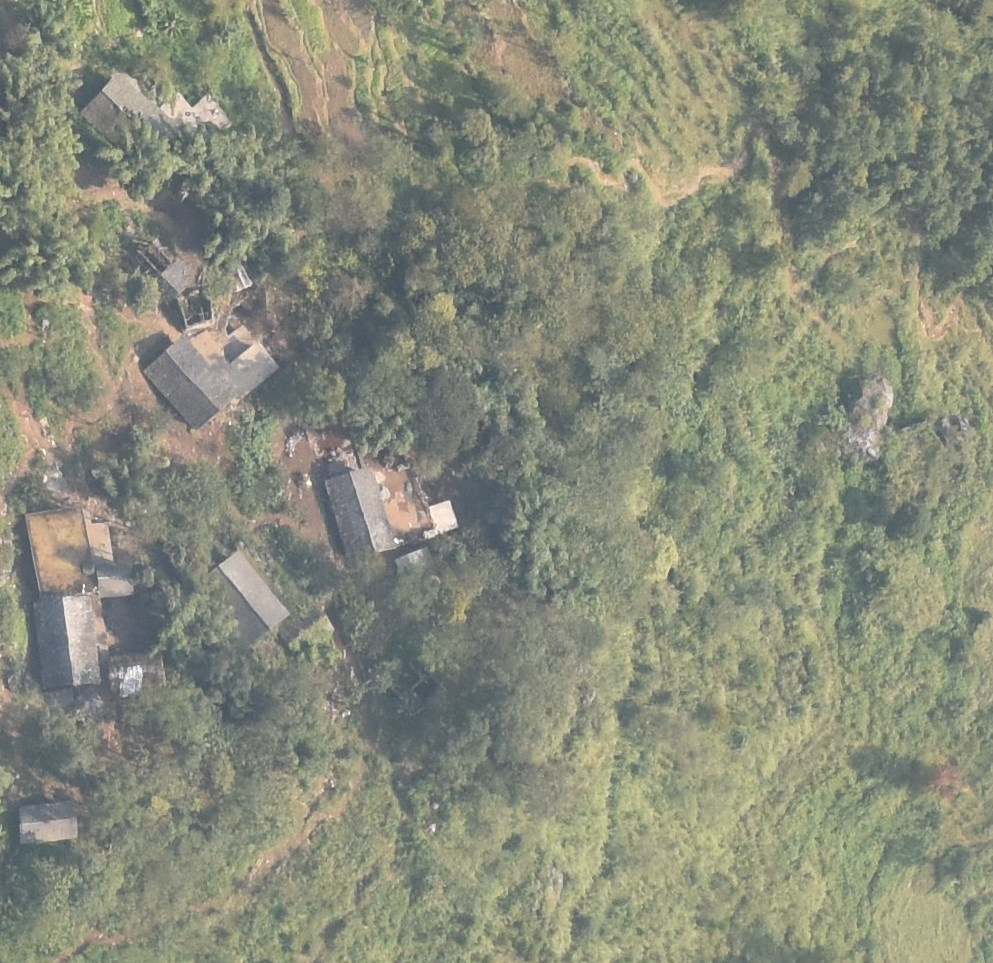building: (144, 337, 238, 431), (205, 552, 296, 646), (24, 507, 100, 598), (33, 594, 104, 690), (325, 467, 396, 560), (84, 75, 177, 146), (190, 330, 281, 401), (157, 86, 234, 138), (16, 800, 77, 846), (398, 548, 442, 586)
